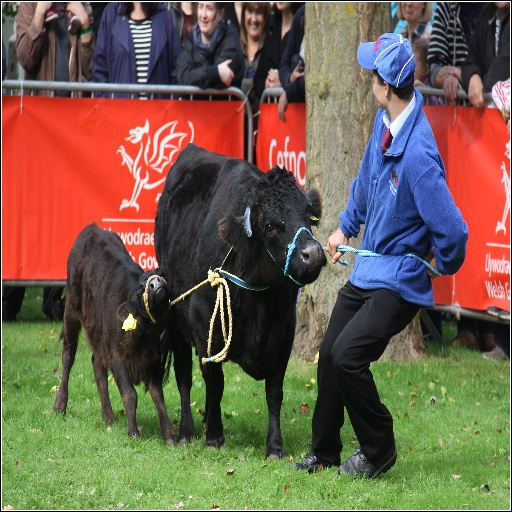hand: (325, 226, 349, 264), (466, 72, 485, 109), (442, 73, 462, 106), (423, 246, 439, 279), (218, 58, 234, 90), (276, 90, 290, 125), (288, 58, 306, 85), (65, 0, 88, 20), (266, 67, 283, 90), (436, 63, 462, 78), (35, 0, 52, 11), (264, 73, 273, 89)
